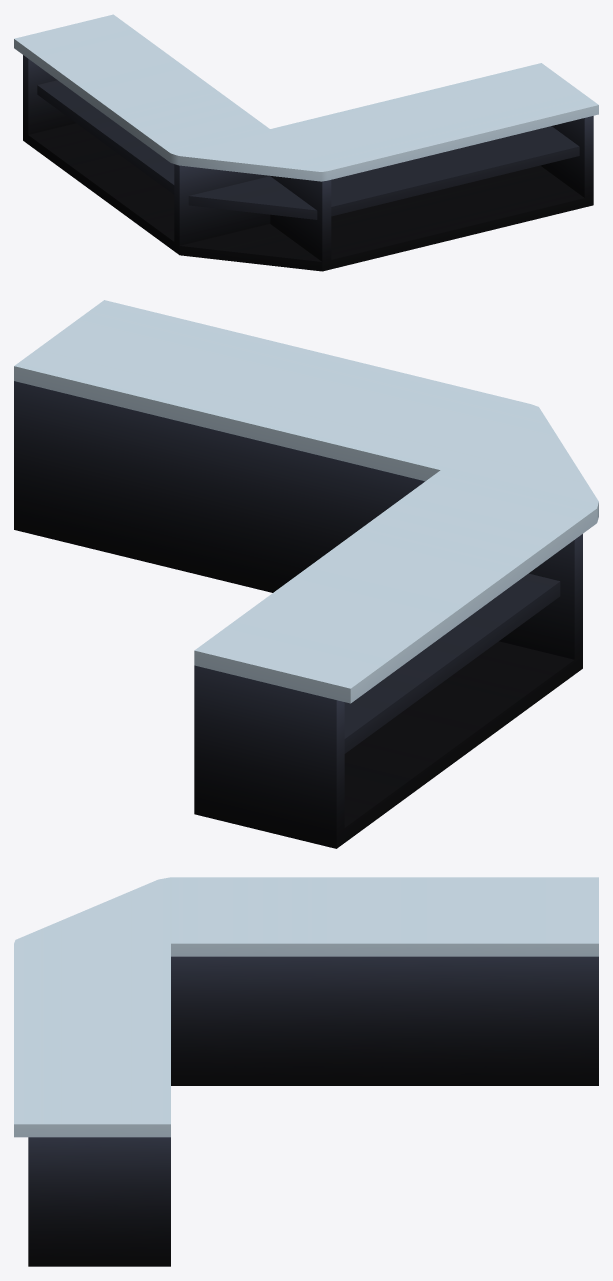
File: Counter.fbx
The picture shows the model from 3 angles, top to bottom: view 1: azimuth 30°, elevation 25°; view 2: azimuth 150°, elevation 25°; view 3: azimuth 270°, elevation 25°; orthographic projection. The views are drawn at different scales.
Visible parts, largest first — view 1: Counter; view 2: Counter; view 3: Counter.
Part boxes in pixels (<box>): Counter: <box>14,14,598,271</box>; Counter: <box>14,300,598,848</box>; Counter: <box>14,877,598,1266</box>.
Size of the model in its own units: 410 by 410 by 110.
